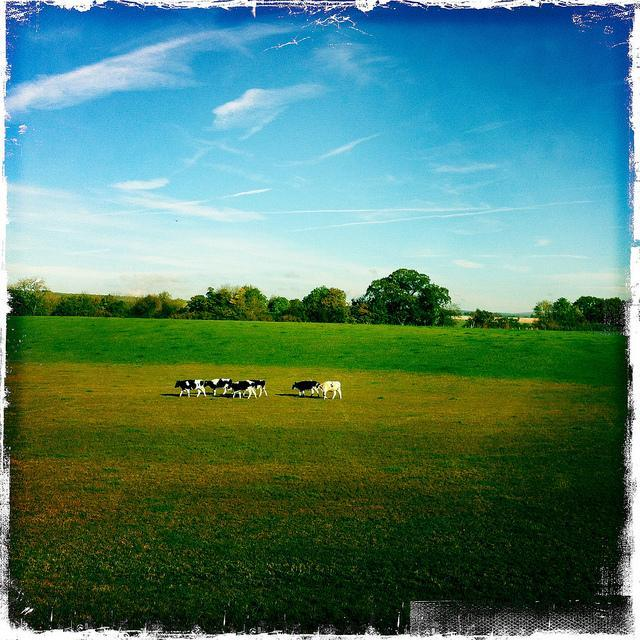cow: (172, 377, 207, 397), (225, 377, 257, 398), (315, 379, 342, 399), (290, 379, 319, 397), (243, 378, 269, 397), (203, 377, 230, 394)
